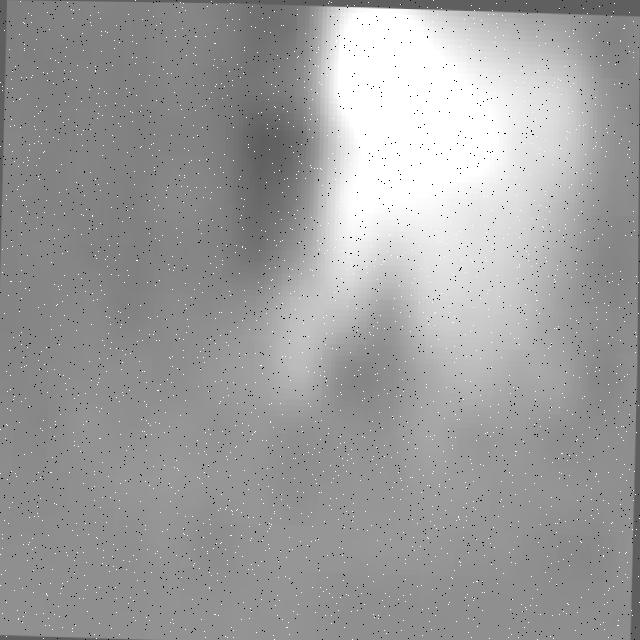person: (285, 4, 591, 475)
